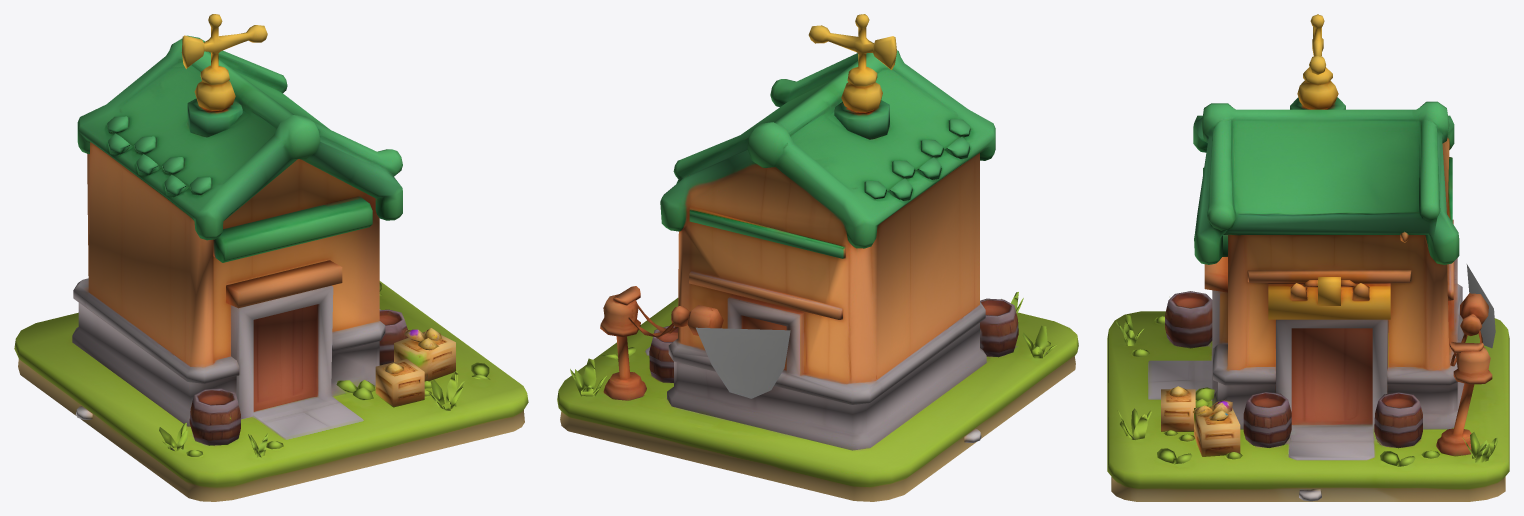
The model's file is deposito_3.glb.
3 renders of one model, left to right at view 1: azimuth 30°, elevation 25°; view 2: azimuth 150°, elevation 25°; view 3: azimuth 270°, elevation 25°, orthographic. The views are drawn at different scales.
Visible parts, largest first — view 1: tripo_node_ba68c099-da14-418e-8edd-1140531ae575; view 2: tripo_node_ba68c099-da14-418e-8edd-1140531ae575; view 3: tripo_node_ba68c099-da14-418e-8edd-1140531ae575.
Boxes of the visible parts, left/top/right/bottom form: tripo_node_ba68c099-da14-418e-8edd-1140531ae575: left=14, top=14, right=528, bottom=501; tripo_node_ba68c099-da14-418e-8edd-1140531ae575: left=557, top=14, right=1078, bottom=501; tripo_node_ba68c099-da14-418e-8edd-1140531ae575: left=1107, top=14, right=1509, bottom=501.
Bounding box in the file's own units: 0.9629 × 0.998 × 0.9512.
1 material, 1 textured.
